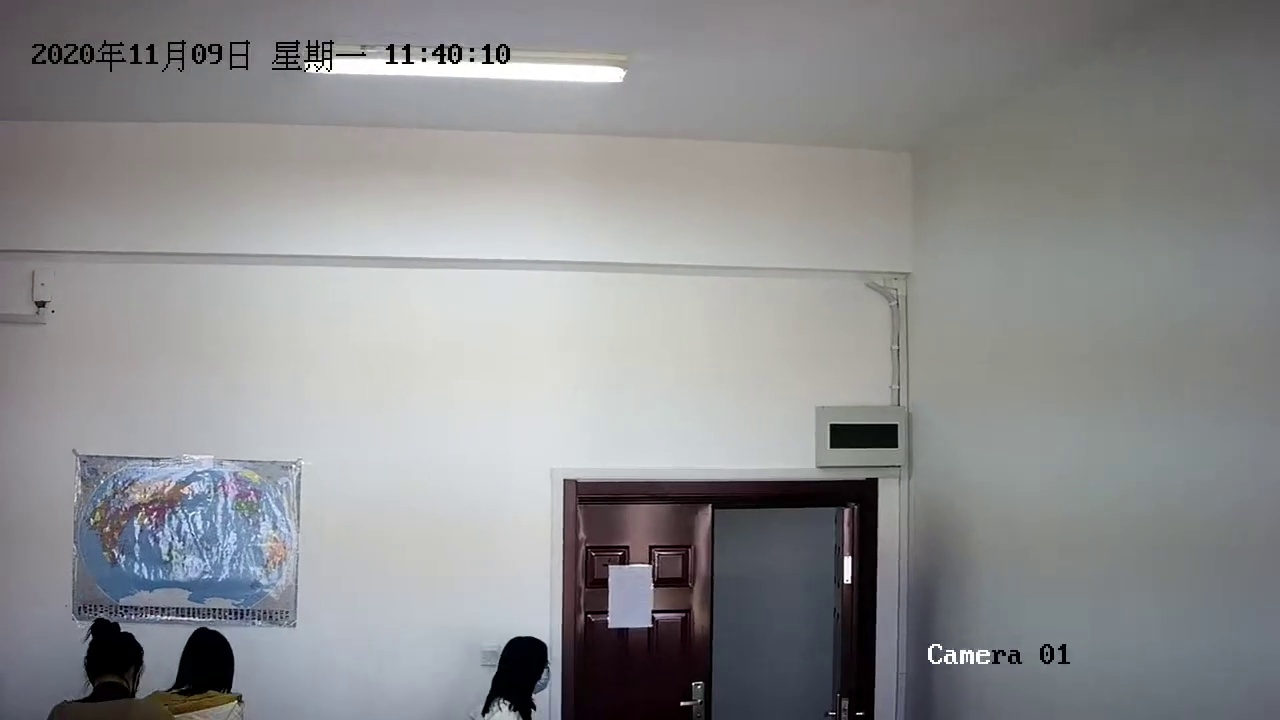mask: (492, 635, 558, 705)
